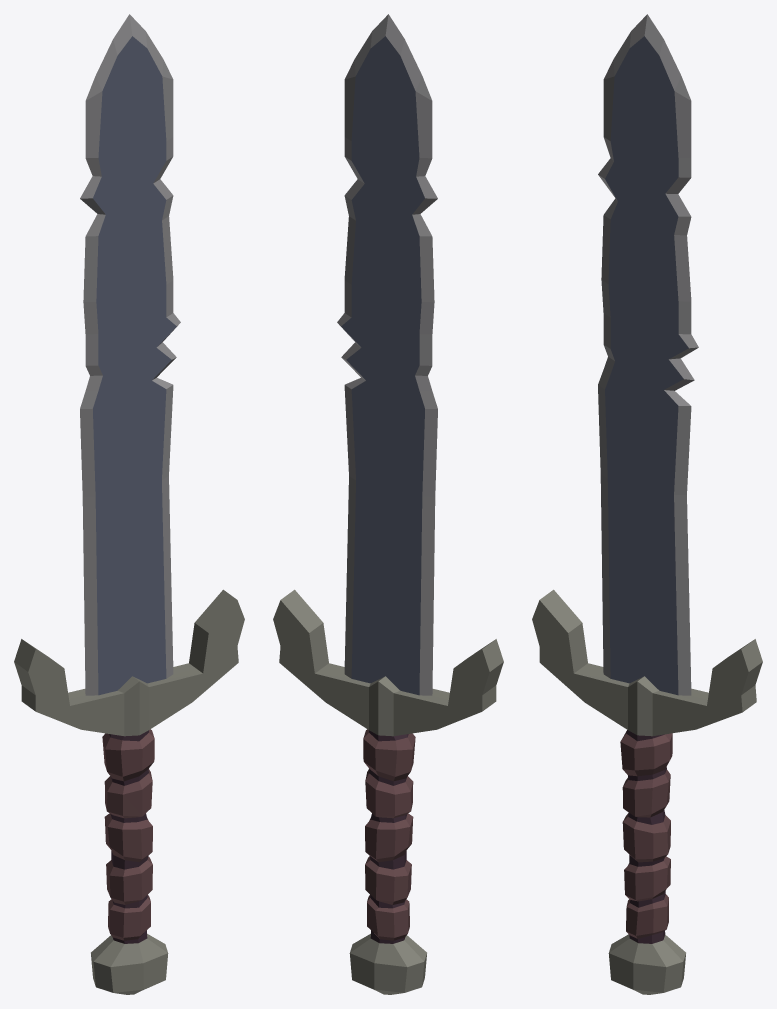
File: weapon.glb
3 renders of one model, left to right at view 1: azimuth 30°, elevation 25°; view 2: azimuth 150°, elevation 25°; view 3: azimuth 330°, elevation 25°, orthographic.
Visible parts, largest first — view 1: Sword; view 2: Sword; view 3: Sword.
Part boxes in pixels (x1,y1,x2,y2): Sword: [14, 14, 244, 994]; Sword: [273, 14, 503, 994]; Sword: [532, 14, 762, 994].
Bounding box in the file's own units: 0.1807 × 0.7783 × 0.0413.
